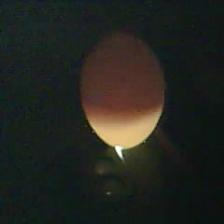fertile: (76, 28, 170, 156)
